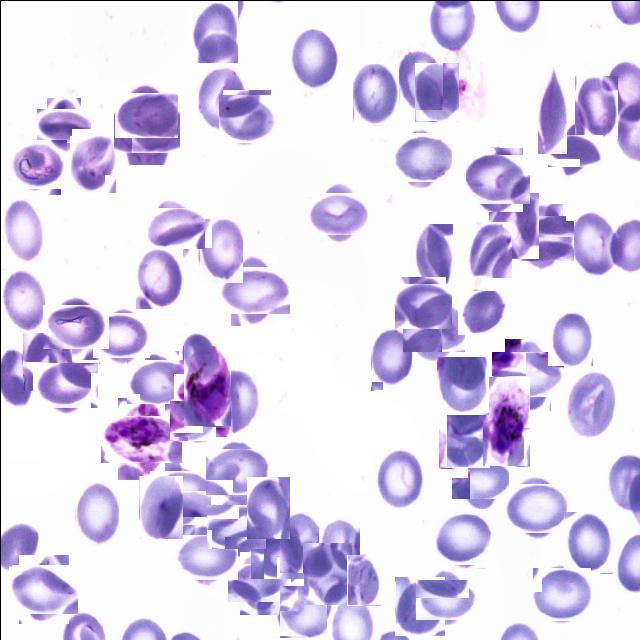red blood cell: (563, 369, 616, 440), (224, 259, 284, 319), (13, 558, 73, 618), (498, 344, 556, 404), (286, 27, 341, 90), (468, 150, 526, 208), (196, 64, 246, 131), (510, 209, 568, 266), (488, 192, 538, 258), (572, 210, 620, 278), (508, 479, 564, 536), (532, 566, 588, 622), (432, 510, 488, 566), (48, 298, 104, 354), (373, 447, 424, 508), (177, 529, 233, 584), (405, 299, 461, 354), (21, 330, 71, 391), (563, 511, 612, 573), (393, 129, 448, 184), (118, 104, 174, 158), (436, 356, 488, 414), (134, 246, 182, 308), (303, 542, 351, 604), (210, 444, 265, 498), (8, 136, 63, 190), (38, 357, 92, 412), (119, 86, 172, 142), (394, 576, 444, 635), (152, 466, 206, 520), (74, 481, 118, 547), (198, 218, 242, 283), (437, 413, 489, 468), (215, 368, 257, 436), (191, 0, 237, 62), (2, 198, 46, 262), (573, 75, 617, 139), (0, 268, 44, 332), (138, 475, 182, 539), (252, 528, 305, 581), (130, 354, 182, 408), (352, 63, 398, 124), (280, 511, 326, 572), (397, 47, 442, 109), (220, 91, 272, 144), (68, 134, 115, 192), (310, 188, 362, 240), (210, 500, 262, 552), (536, 64, 566, 154), (246, 476, 289, 538), (397, 279, 448, 331), (412, 223, 452, 289), (370, 326, 411, 390), (438, 380, 484, 437), (233, 557, 284, 608), (148, 202, 199, 253), (414, 62, 458, 121), (96, 309, 146, 360), (547, 309, 592, 365), (277, 586, 327, 636), (420, 574, 470, 624), (467, 221, 511, 277), (319, 517, 359, 578), (455, 455, 503, 503), (458, 288, 504, 336), (171, 397, 217, 442), (40, 102, 86, 146), (552, 128, 596, 172), (346, 554, 380, 605)
schizont: (481, 376, 529, 466), (108, 406, 173, 470)
trophozoite: (182, 344, 230, 426)
